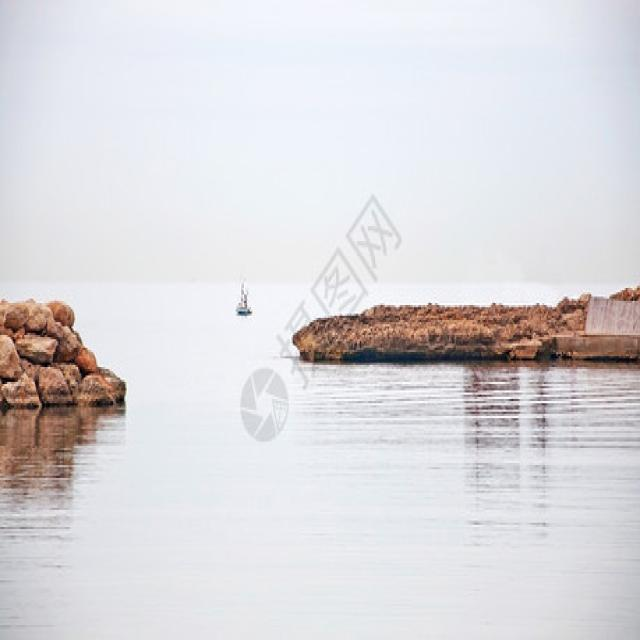fishing boat: (225, 280, 256, 329)
reef: (283, 292, 640, 373), (0, 278, 140, 399)
